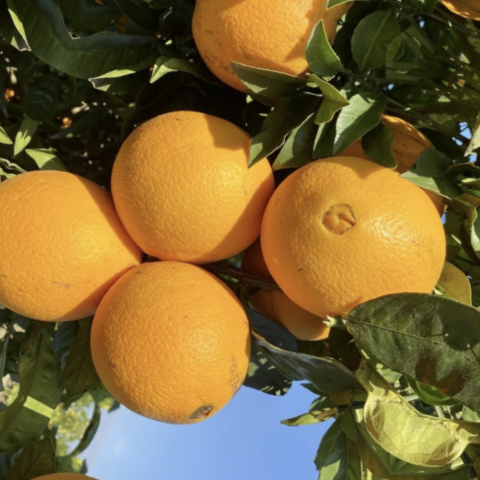orange: (223, 120, 480, 377), (84, 73, 316, 305), (58, 236, 278, 465), (0, 129, 185, 375)
